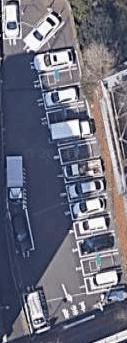parkingspot: (27, 48, 127, 298), (4, 155, 36, 256), (18, 7, 68, 57), (21, 278, 52, 335), (2, 0, 23, 47)
